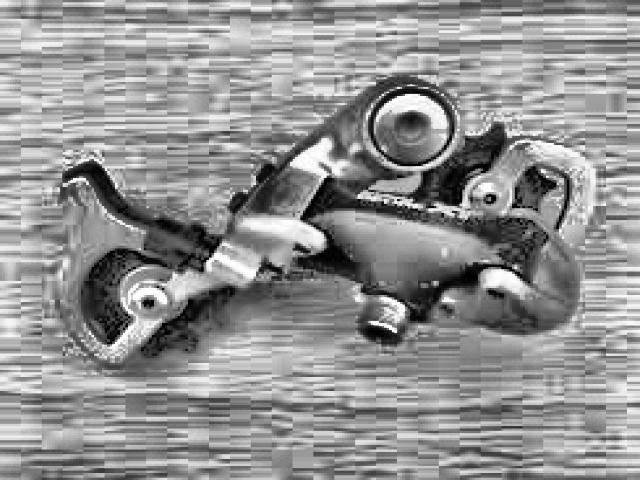rear_derailleur: (60, 76, 602, 373)
